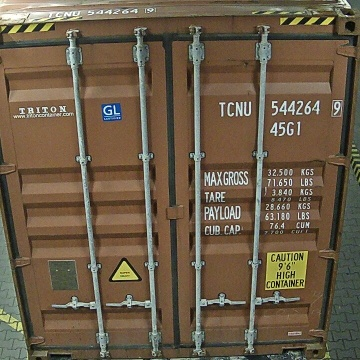serial_id: (219, 100, 341, 116)
